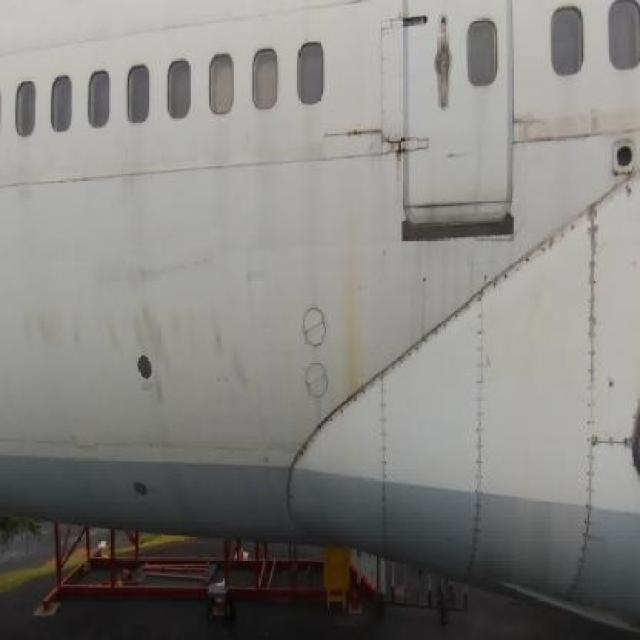Missing-Rivet: (580, 192, 600, 560), (492, 222, 580, 298), (470, 279, 488, 566), (398, 302, 471, 366), (376, 368, 395, 542), (316, 386, 375, 439), (602, 410, 635, 473)
Rust: (335, 216, 374, 398), (383, 124, 414, 199)
Scartch: (20, 298, 254, 407), (97, 238, 226, 294), (514, 102, 606, 162), (236, 252, 287, 322)
